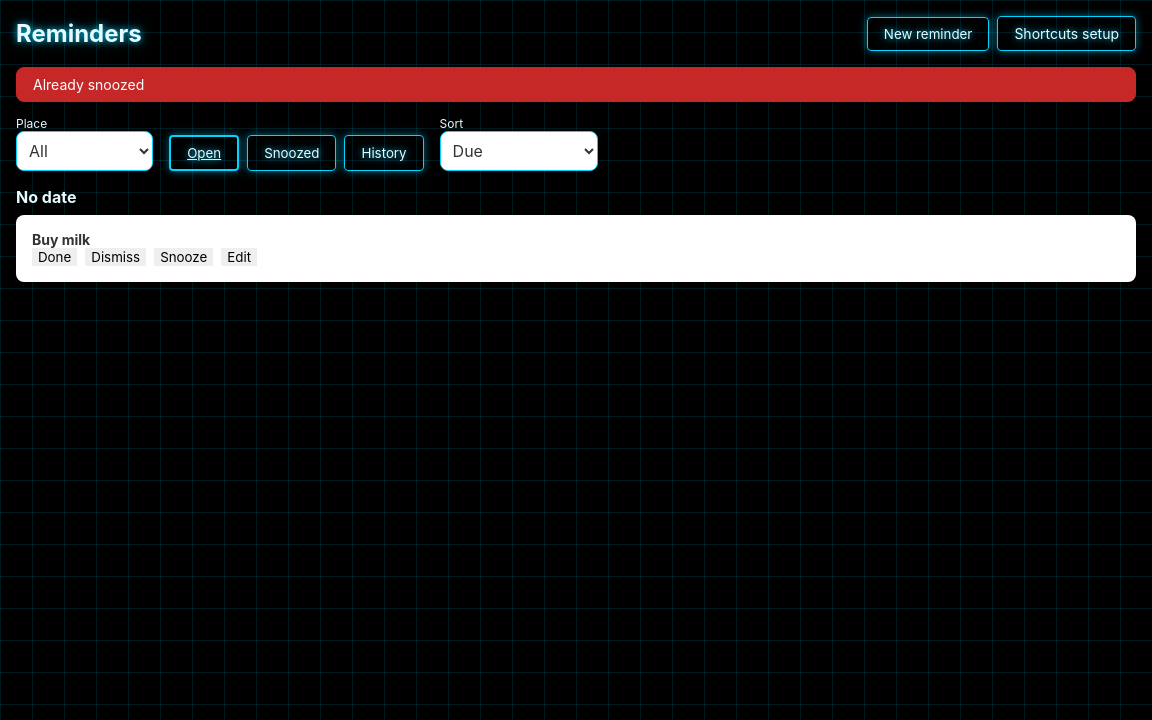
Test: RemindersPage › a failed snooze keeps the dialog open
Click the button "Snooze" at {"x": 184, "y": 257}, box [154, 248, 213, 266]
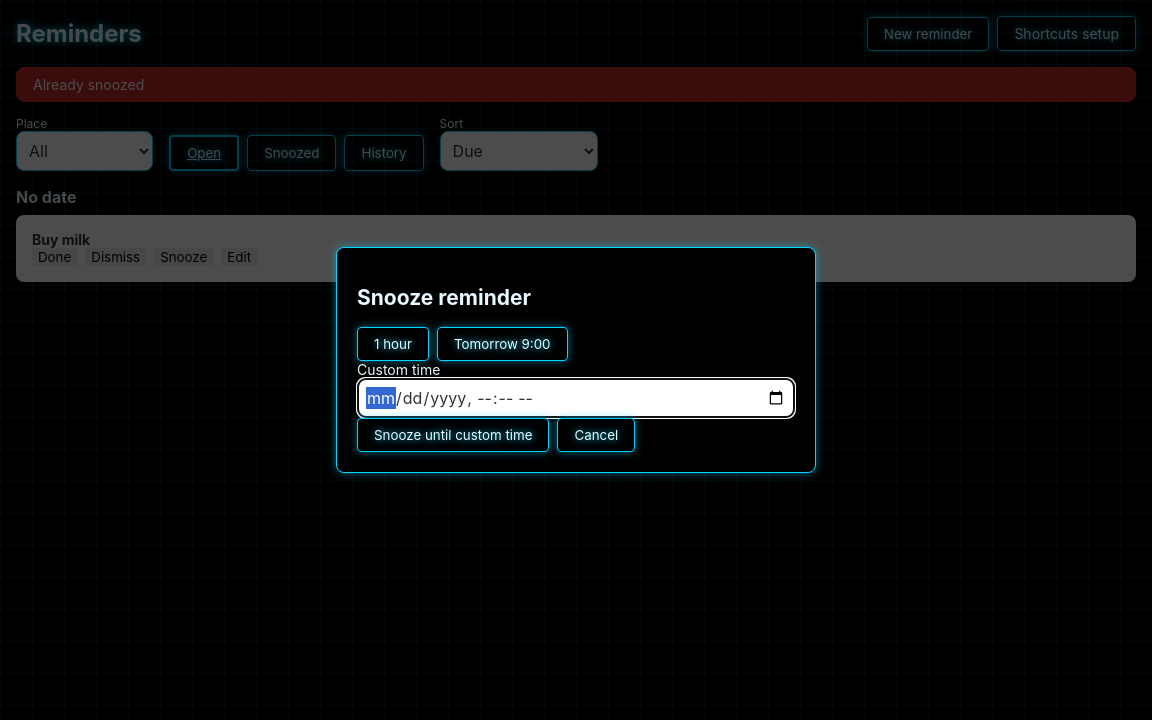
Click the button "1 hour" at {"x": 393, "y": 344}, box [357, 327, 429, 361]
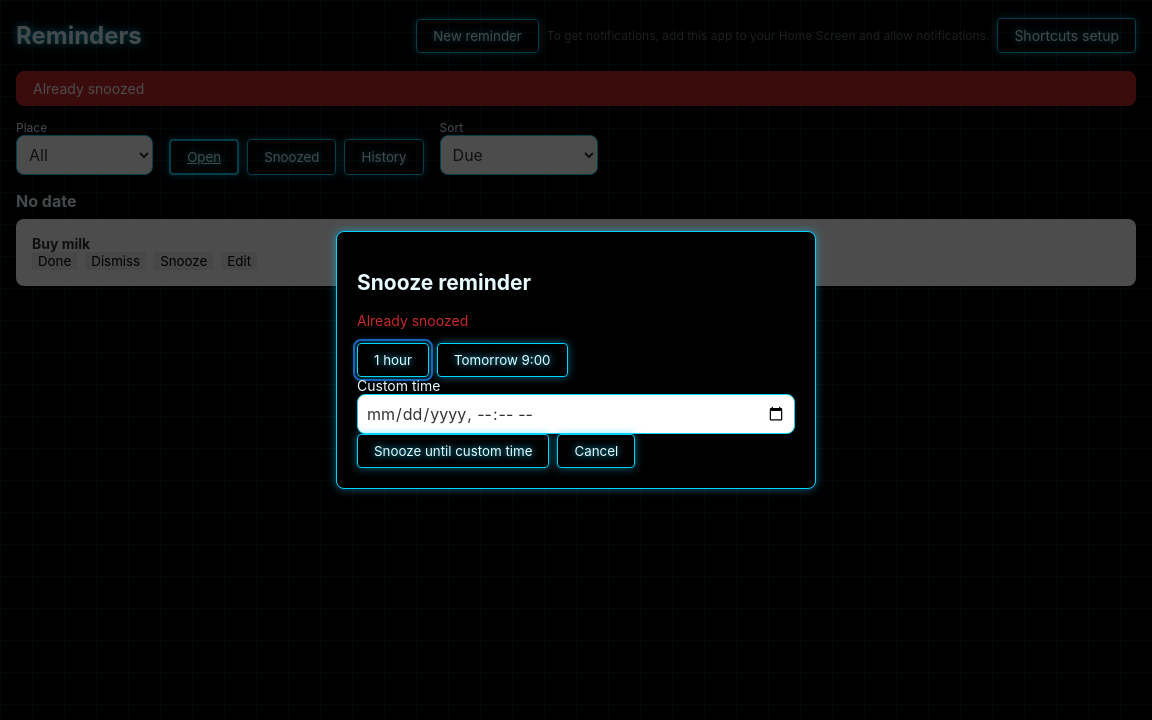
Result: the dialog is shown at [336, 231, 816, 489]
Result: the text "Already snoozed" is shown at [357, 312, 468, 329]
